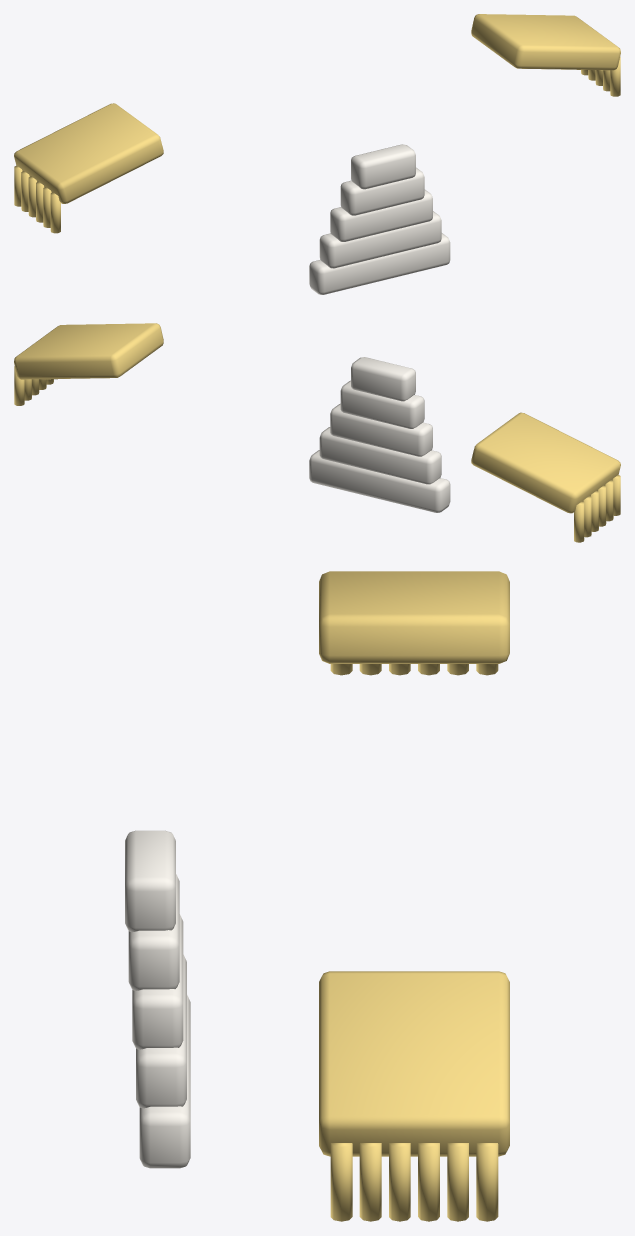
Rendered from boss_pirate_anne_torso.glb.
The picture shows the model from 3 angles, top to bottom: view 1: azimuth 30°, elevation 25°; view 2: azimuth 150°, elevation 25°; view 3: azimuth 270°, elevation 25°; orthographic projection. The views are drawn at different scales.
Visible parts, largest first — view 1: AdmiralEpaulette_L, AdmiralEpaulette_R, PirateJabotRuffle_4, PirateJabotRuffle_3, PirateJabotRuffle_2, PirateJabotRuffle_1, PirateJabotRuffle_0, EpauletteFringe_L_0; view 2: AdmiralEpaulette_L, AdmiralEpaulette_R, PirateJabotRuffle_4, PirateJabotRuffle_3, PirateJabotRuffle_2, PirateJabotRuffle_1, PirateJabotRuffle_0, EpauletteFringe_L_5, EpauletteFringe_R_5, EpauletteFringe_L_1, EpauletteFringe_L_4, EpauletteFringe_L_2 (+2 smaller); view 3: AdmiralEpaulette_R, AdmiralEpaulette_L, PirateJabotRuffle_0, PirateJabotRuffle_4, PirateJabotRuffle_2, PirateJabotRuffle_3, PirateJabotRuffle_1, EpauletteFringe_R_1, EpauletteFringe_R_5, EpauletteFringe_R_0, EpauletteFringe_R_2, EpauletteFringe_R_3 (+1 smaller).
Part boxes in pixels (bbox=[...]): AdmiralEpaulette_L: bbox=[14, 103, 163, 203]; AdmiralEpaulette_R: bbox=[471, 14, 620, 70]; PirateJabotRuffle_4: bbox=[309, 233, 450, 294]; PirateJabotRuffle_3: bbox=[319, 211, 441, 268]; PirateJabotRuffle_2: bbox=[330, 189, 432, 241]; PirateJabotRuffle_1: bbox=[340, 167, 424, 215]; PirateJabotRuffle_0: bbox=[351, 144, 415, 189]; EpauletteFringe_L_0: bbox=[50, 192, 60, 233]; AdmiralEpaulette_L: bbox=[471, 412, 620, 513]; AdmiralEpaulette_R: bbox=[14, 323, 163, 379]; PirateJabotRuffle_4: bbox=[309, 450, 450, 512]; PirateJabotRuffle_3: bbox=[319, 427, 441, 484]; PirateJabotRuffle_2: bbox=[330, 403, 432, 456]; PirateJabotRuffle_1: bbox=[340, 380, 424, 428]; PirateJabotRuffle_0: bbox=[351, 357, 415, 401]; EpauletteFringe_L_5: bbox=[574, 501, 584, 542]; EpauletteFringe_R_5: bbox=[14, 366, 24, 405]; EpauletteFringe_L_1: bbox=[605, 480, 613, 521]; EpauletteFringe_L_4: bbox=[583, 496, 591, 537]; EpauletteFringe_L_2: bbox=[598, 485, 606, 526]; AdmiralEpaulette_R: bbox=[319, 971, 509, 1156]; AdmiralEpaulette_L: bbox=[319, 571, 509, 663]; PirateJabotRuffle_0: bbox=[125, 830, 175, 932]; PirateJabotRuffle_4: bbox=[139, 995, 190, 1168]; PirateJabotRuffle_2: bbox=[132, 914, 183, 1049]; PirateJabotRuffle_3: bbox=[136, 954, 186, 1108]; PirateJabotRuffle_1: bbox=[128, 874, 179, 990]; EpauletteFringe_R_1: bbox=[359, 1143, 381, 1221]; EpauletteFringe_R_5: bbox=[476, 1143, 498, 1221]; EpauletteFringe_R_0: bbox=[330, 1143, 352, 1221]; EpauletteFringe_R_2: bbox=[389, 1143, 410, 1221]; EpauletteFringe_R_3: bbox=[418, 1143, 439, 1221].
Size of the model in its own units: 0.722 by 0.1905 by 0.2115.
